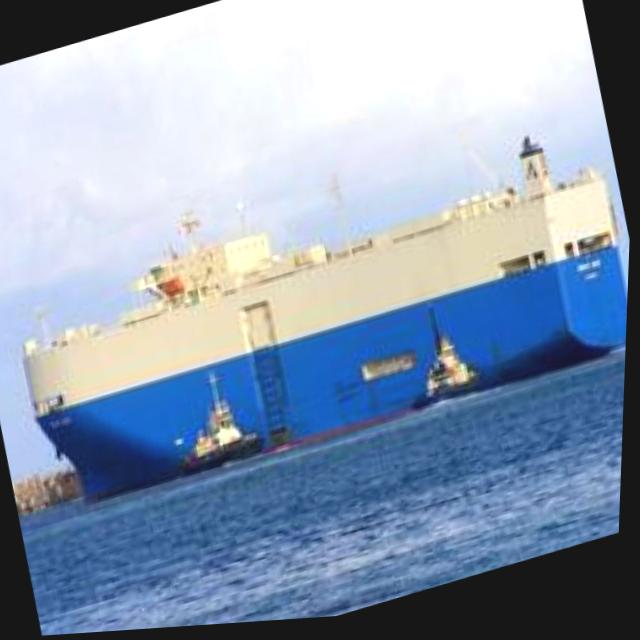ship2: (26, 143, 631, 507)
